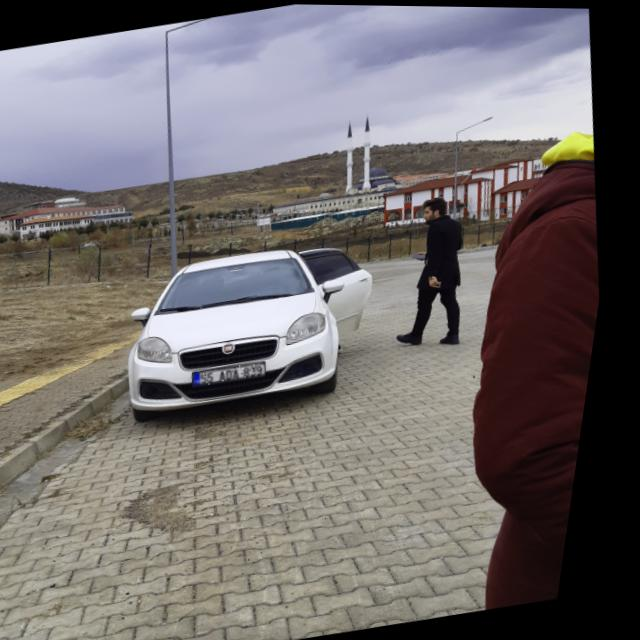license_plate: (204, 359, 277, 386)
